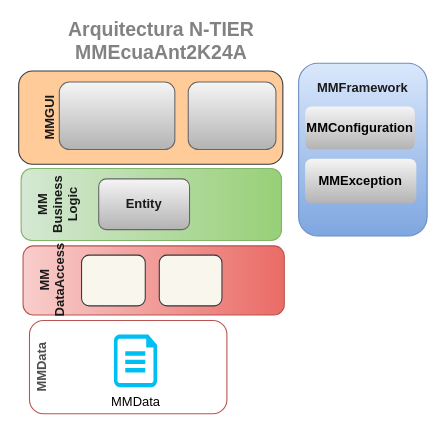
Some shapes in this 447 by 433 pixel diagram are drawn without their labels. The centre of each missing label's shape, as x and y in pixels:
"MMDAO" goes at [112,280].
"MMDTO" goes at [190,280].
"MMResource" goes at [231,115].
"MMUIComponent" goes at [116,115].
